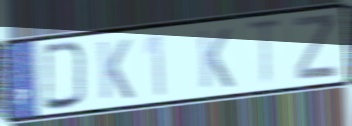1: (143, 30, 167, 100)
D: (41, 40, 90, 112)
K: (95, 37, 135, 102), (195, 26, 235, 91)
T: (244, 16, 285, 89)
Z: (292, 11, 339, 81)
